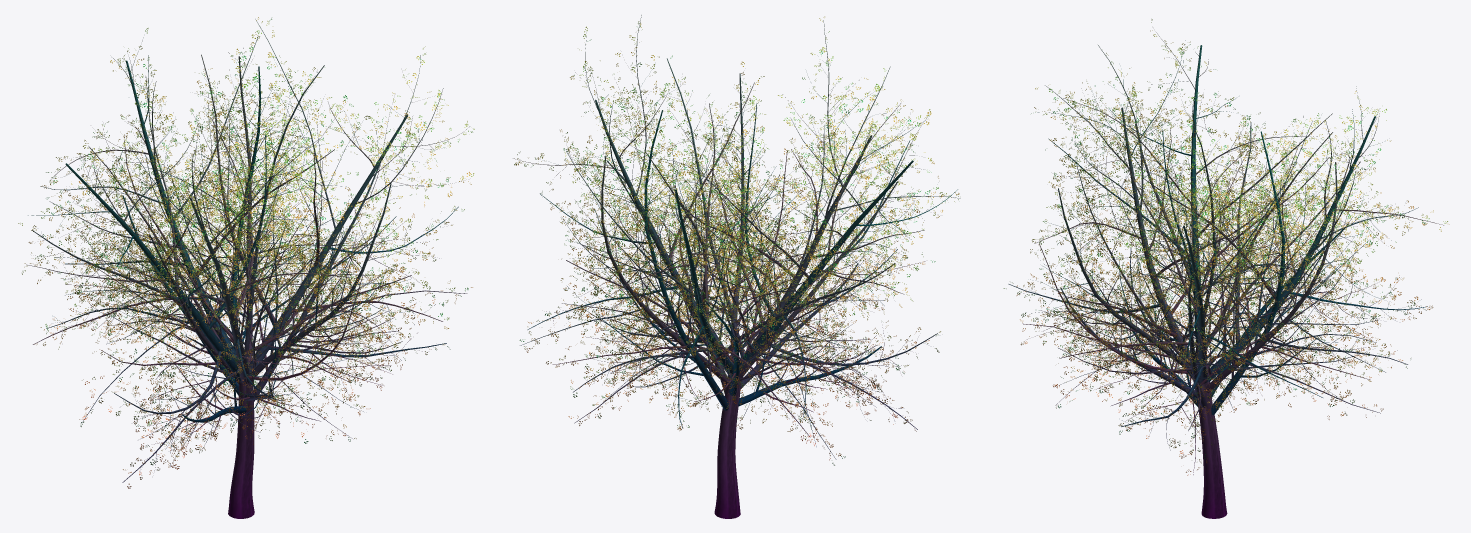
File: asset.glb
The picture shows the model from 3 angles, left to right: view 1: azimuth 30°, elevation 25°; view 2: azimuth 150°, elevation 25°; view 3: azimuth 270°, elevation 25°; orthographic projection. The views are drawn at different scales.
Parts seen in each view (by area): view 1: plains_cottonwood_LOD0; view 2: plains_cottonwood_LOD0; view 3: plains_cottonwood_LOD0.
Boxes of the visible parts, x1=… form: plains_cottonwood_LOD0: x1=18, y1=17, x2=474, y2=518; plains_cottonwood_LOD0: x1=513, y1=15, x2=960, y2=518; plains_cottonwood_LOD0: x1=1003, y1=19, x2=1449, y2=518.
Size of the model in its own units: 26.81 by 27.3 by 26.67.
Materials: 2 (2 with a texture image).
